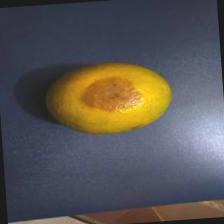Orange Rotten: (36, 48, 180, 146)
